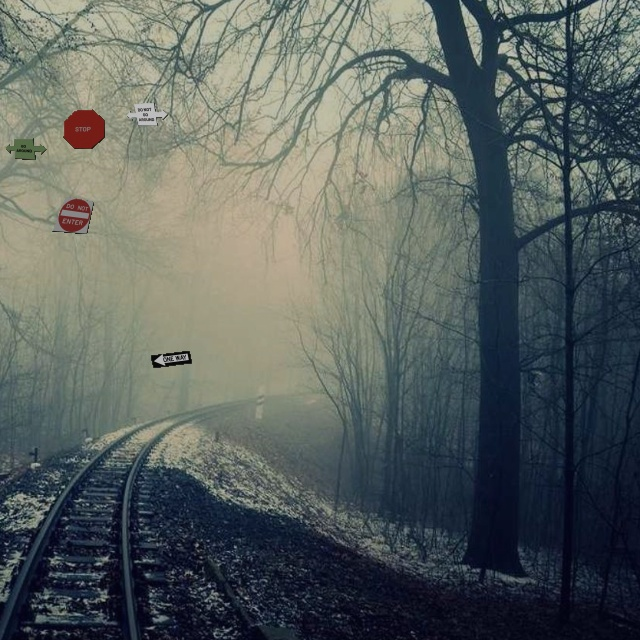DO_NOT_ENTER: (52, 196, 94, 234)
DO_NOT_GO_AROUND: (126, 102, 168, 126)
GO_AROUND: (5, 138, 47, 160)
ONE_WAY_ left: (150, 350, 192, 368)
STOP: (63, 109, 105, 149)
